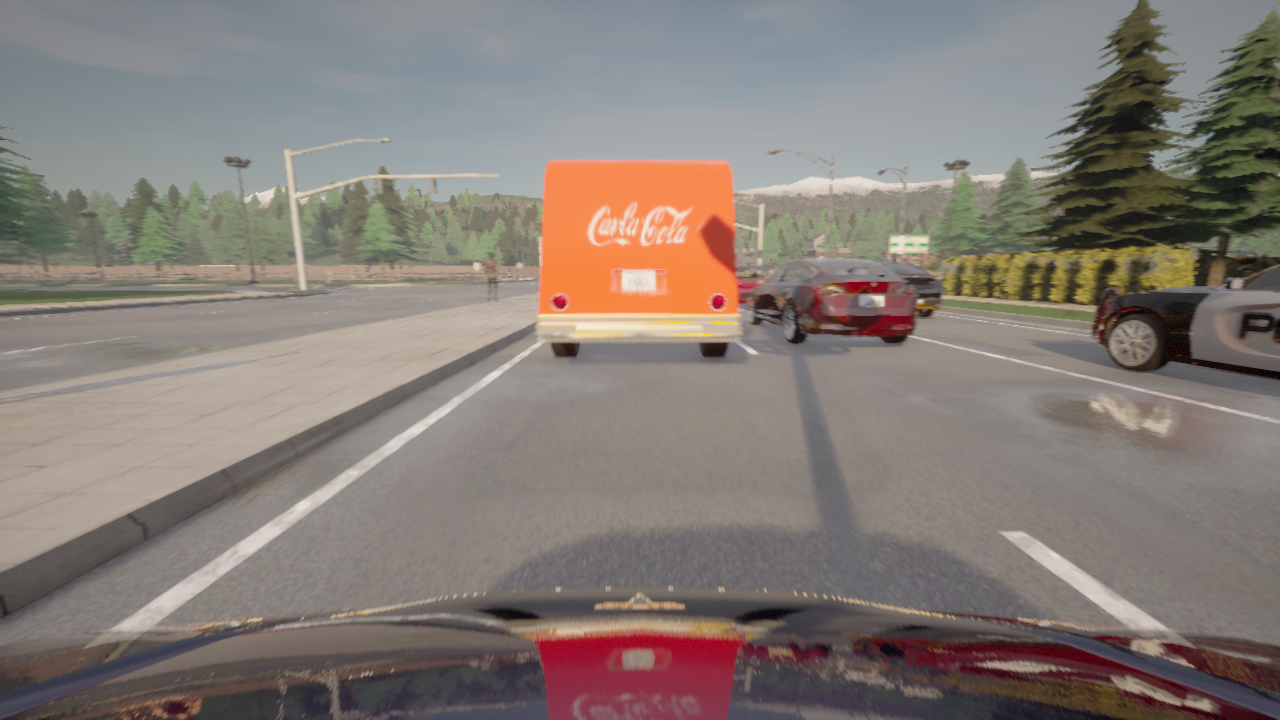cyclist: (0, 588, 1279, 719), (536, 161, 744, 357), (1090, 249, 1279, 379), (747, 258, 917, 344), (878, 262, 942, 317), (736, 265, 769, 304)
pedestrian: (484, 253, 498, 302), (770, 267, 774, 273)
